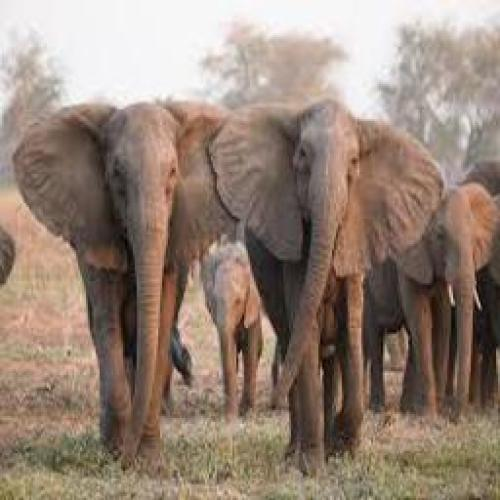african_elephant-endangered: (209, 95, 451, 486), (9, 94, 251, 481), (346, 175, 496, 429), (189, 228, 266, 428), (454, 155, 500, 422)
